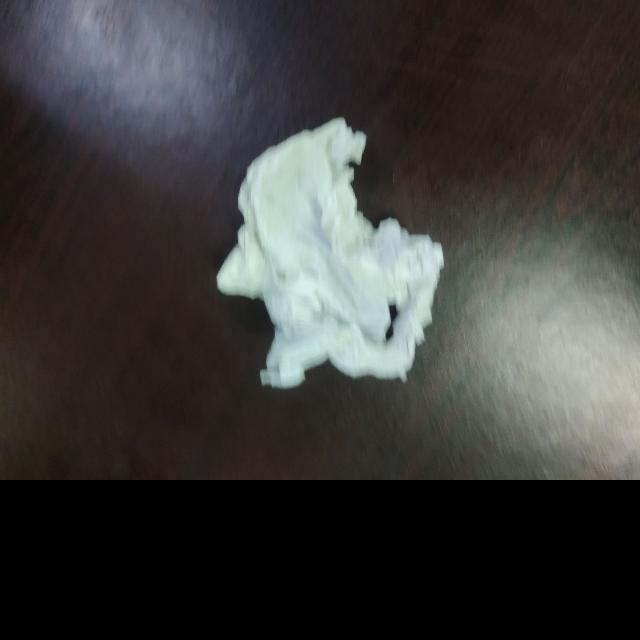kitchen paper: (214, 112, 445, 398)
